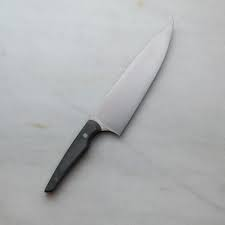kuchillu: (40, 13, 175, 195)
